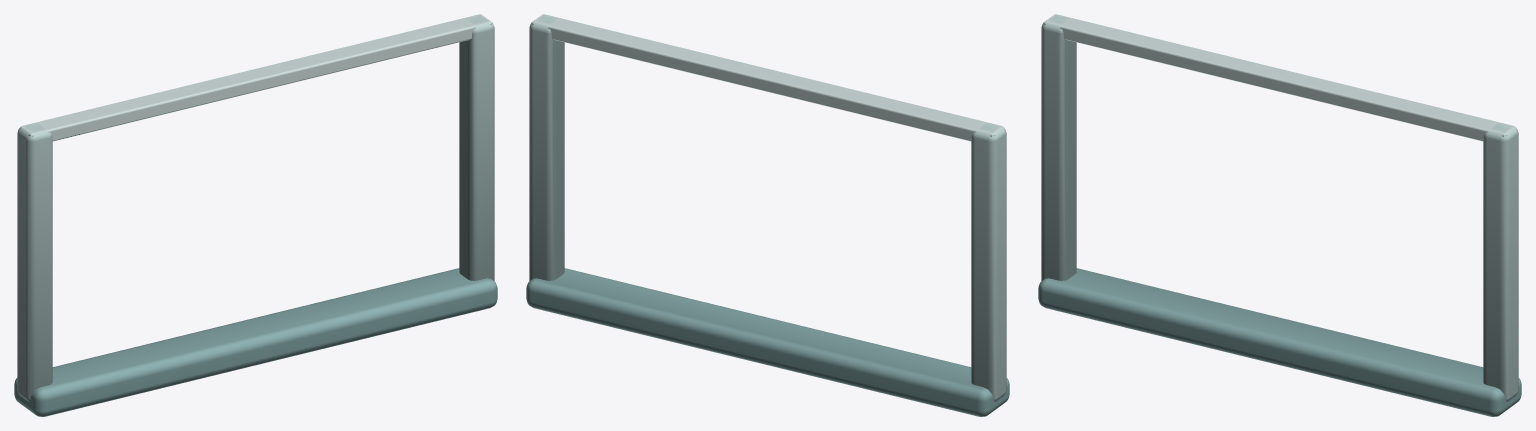
The model's file is glass_frame.glb.
3 views of the same model, side by side, from view 1: azimuth 30°, elevation 25°; view 2: azimuth 150°, elevation 25°; view 3: azimuth 330°, elevation 25° (orthographic).
Visible parts, largest first — view 1: glass_frame; view 2: glass_frame; view 3: glass_frame.
Boxes of the visible parts, <box> form: glass_frame: <box>14,14,497,416</box>; glass_frame: <box>526,14,1009,416</box>; glass_frame: <box>1038,14,1521,416</box>.
Size of the model in its own units: 4.34 by 2.5 by 0.44.
